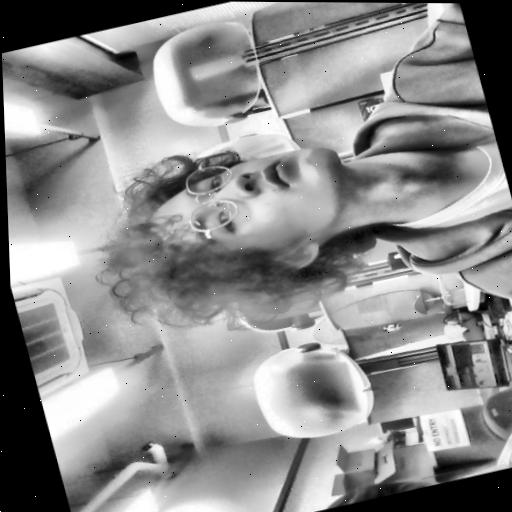Daifuku: (102, 117, 389, 366)
